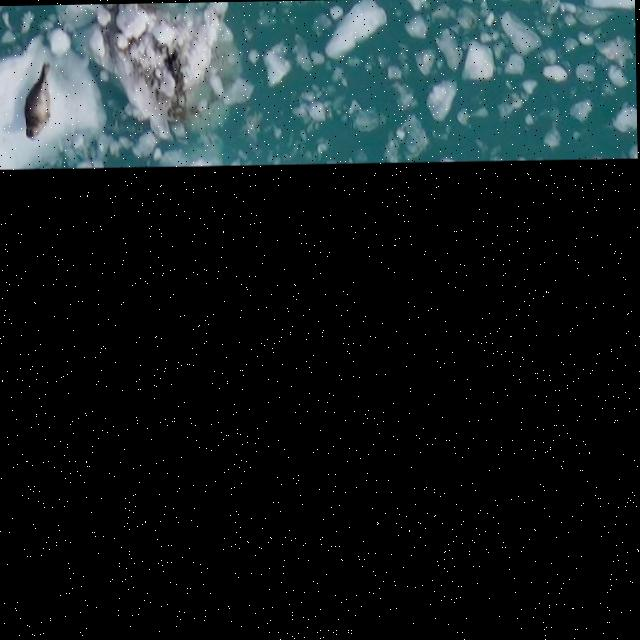seal: (24, 60, 49, 138)
